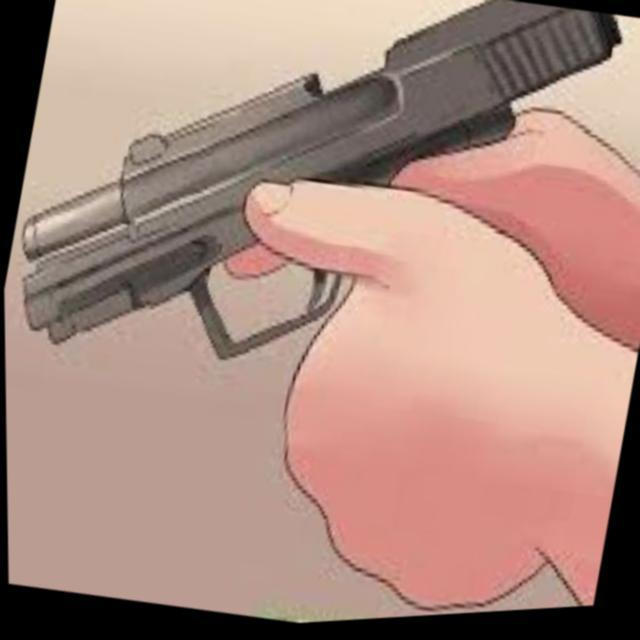weapon: (0, 0, 629, 445)
